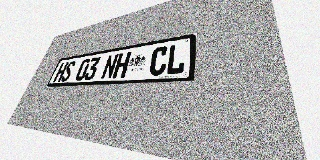0: (74, 58, 91, 81)
3: (83, 56, 101, 80)
C: (148, 45, 169, 76)
H: (112, 52, 131, 78), (53, 62, 69, 82)
L: (165, 43, 187, 75)
N: (100, 54, 119, 79)
S: (60, 60, 76, 82)
